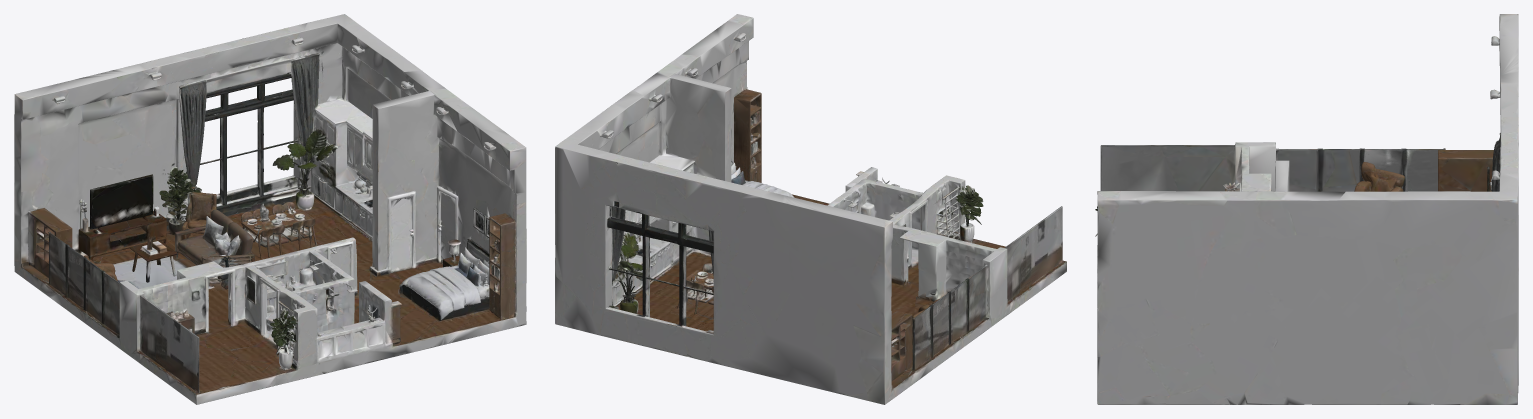
Rendered from floor_plan_4.glb.
The picture shows the model from 3 angles, left to right: view 1: azimuth 30°, elevation 25°; view 2: azimuth 150°, elevation 25°; view 3: azimuth 270°, elevation 25°; orthographic projection. The views are drawn at different scales.
Bounding box in the file's own units: 1.9 × 0.9795 × 1.83.
1 material, 1 textured.
